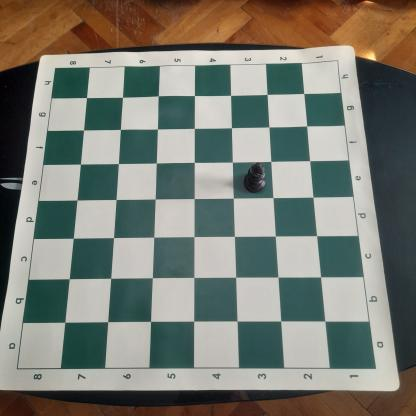black-bishop: (242, 162, 271, 195)
